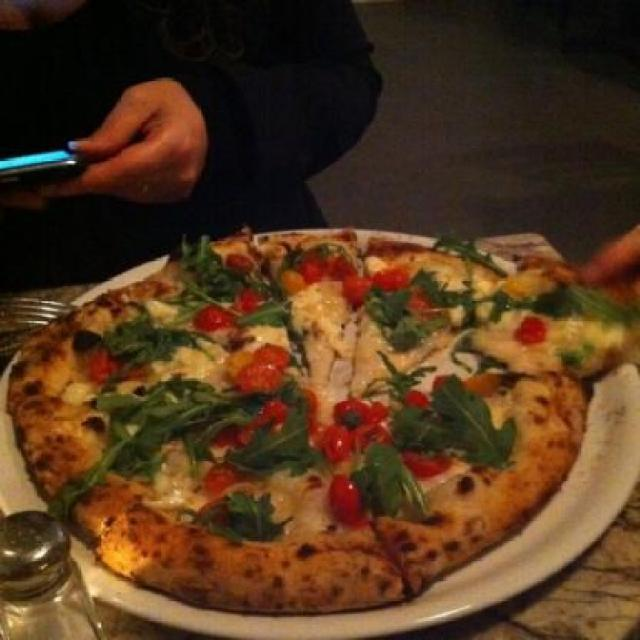Pizza: (10, 206, 613, 608)
